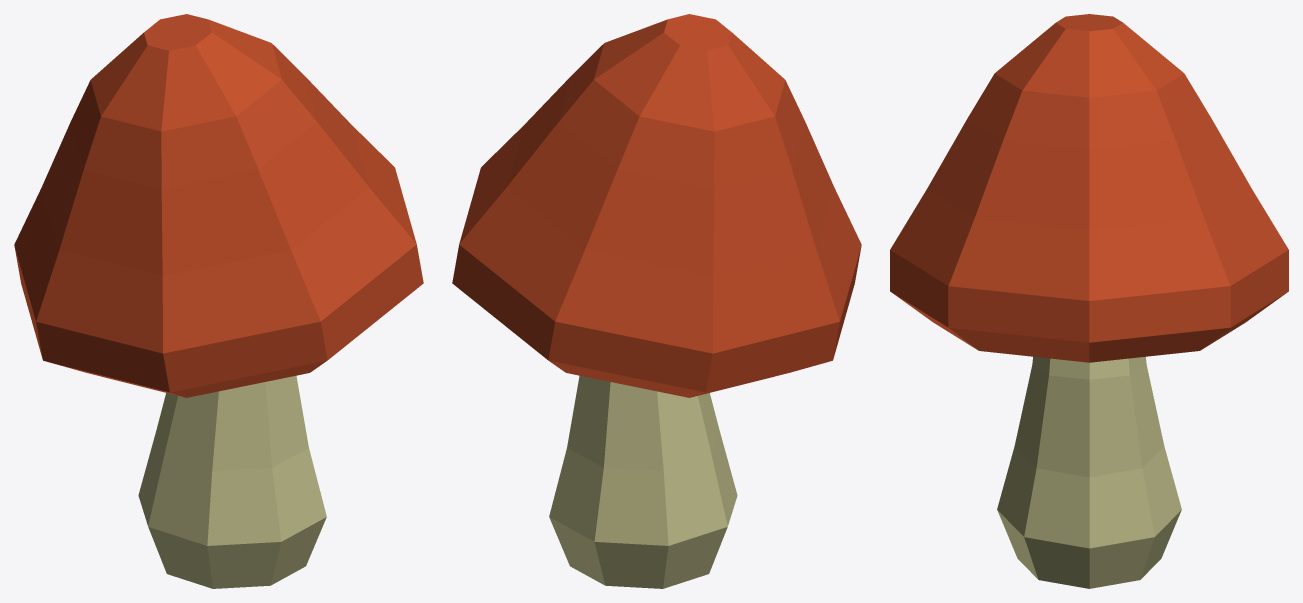
The model's file is RedMushroom1.fbx.
3 views of the same model, side by side, from view 1: azimuth 30°, elevation 25°; view 2: azimuth 150°, elevation 25°; view 3: azimuth 270°, elevation 25° (orthographic). The views are drawn at different scales.
Parts seen in each view (by area): view 1: Circle; view 2: Circle; view 3: Circle.
Boxes of the visible parts, box(x1,y1,x2,y2) form: Circle: box(14, 14, 423, 588); Circle: box(452, 14, 861, 588); Circle: box(890, 14, 1288, 588).
Bounding box in the file's own units: 264 × 376 × 263.
